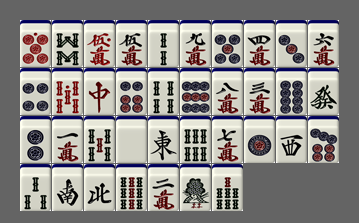0m: (84, 20, 115, 67)
0p: (20, 20, 51, 67)
0s: (52, 68, 83, 115)
1m: (52, 116, 83, 163)
1p: (244, 116, 275, 163)
1s: (180, 164, 211, 211)
1z: (148, 116, 179, 163)
2m: (148, 164, 179, 211)
2p: (20, 116, 51, 163)
2s: (148, 20, 179, 67)
2z: (52, 164, 83, 211)
3m: (244, 68, 275, 115)
3p: (276, 20, 307, 67)
3s: (20, 164, 51, 211)
3z: (276, 116, 307, 163)
4m: (244, 20, 275, 67)
4p: (20, 68, 51, 115)
4s: (148, 68, 179, 115)
4z: (84, 164, 115, 211)
5m: (116, 20, 147, 67)
5p: (212, 20, 243, 67)
5s: (84, 116, 115, 163)
5z: (116, 116, 147, 163)
6m: (308, 20, 339, 67)
6p: (116, 68, 147, 115)
6s: (180, 116, 211, 163)
6z: (308, 68, 339, 115)
7m: (212, 116, 243, 163)
7p: (308, 116, 339, 163)
7s: (212, 164, 243, 211)
7z: (84, 68, 115, 115)
8m: (212, 68, 243, 115)
8p: (276, 68, 307, 115)
8s: (52, 20, 83, 67)
9m: (180, 20, 211, 67)
9p: (180, 68, 211, 115)
9s: (116, 164, 147, 211)
